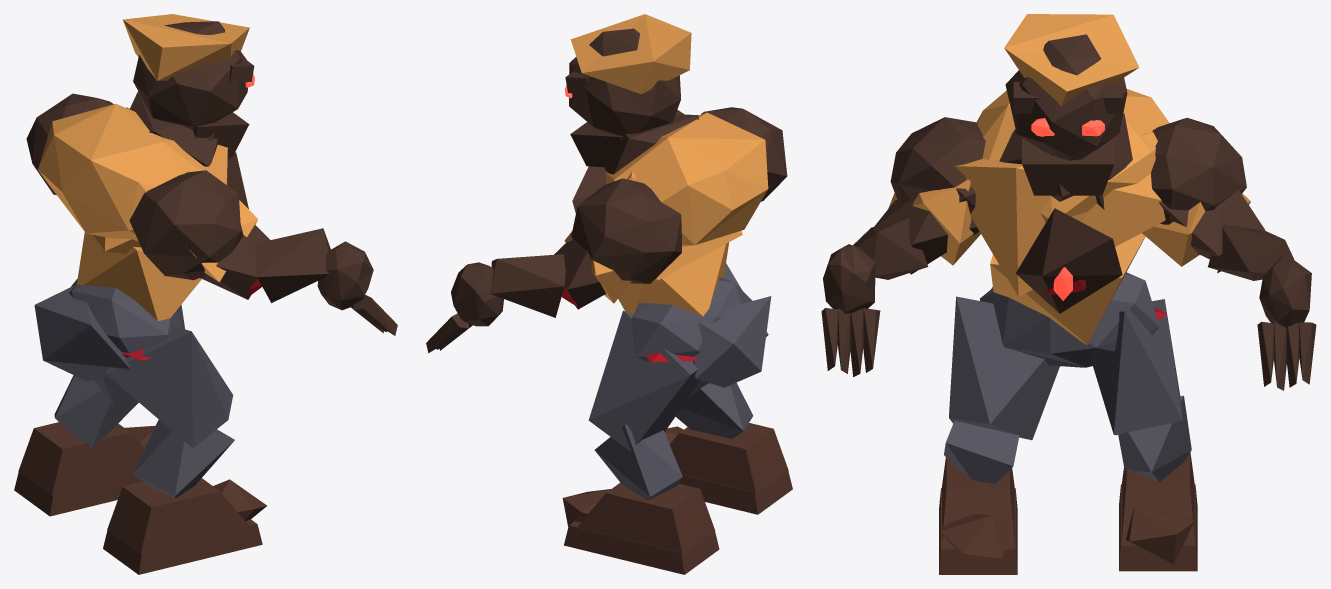
3 renders of one model, left to right at view 1: azimuth 30°, elevation 25°; view 2: azimuth 150°, elevation 25°; view 3: azimuth 270°, elevation 25°, orthographic. The views are drawn at different scales.
Visible parts, largest first — view 1: torso__alpha, head__alpha, armR__alpha, footR__alpha, hip__alpha, footL__alpha, legR__alpha, shinR__alpha, foreArmR__alpha, handR__alpha, shinL__alpha, armL__alpha (+1 smaller); view 2: torso__alpha, head__alpha, armL__alpha, footL__alpha, hip__alpha, footR__alpha, legL__alpha, shinL__alpha, foreArmL__alpha, handL__alpha, shinR__alpha, armR__alpha; view 3: torso__alpha, head__alpha, armL__alpha, armR__alpha, legR__alpha, footL__alpha, footR__alpha, legL__alpha, hip__alpha, handR__alpha, handL__alpha, shinR__alpha (+3 smaller).
Part boxes in pixels (x1,y1,x2,y2): torso__alpha: (38, 91, 248, 320); head__alpha: (123, 14, 254, 157); armR__alpha: (129, 170, 270, 299); footR__alpha: (103, 478, 266, 574); hip__alpha: (34, 279, 185, 381); footL__alpha: (14, 422, 155, 516); legR__alpha: (106, 326, 233, 448); shinR__alpha: (133, 419, 234, 498); foreArmR__alpha: (255, 228, 330, 302); handR__alpha: (317, 241, 397, 335); shinL__alpha: (54, 375, 138, 451); armL__alpha: (26, 93, 113, 194); torso__alpha: (572, 112, 768, 316); head__alpha: (565, 14, 691, 170); armL__alpha: (554, 178, 681, 309); footL__alpha: (562, 482, 719, 574); hip__alpha: (632, 277, 771, 387); footR__alpha: (664, 423, 792, 514); legL__alpha: (588, 310, 700, 451); shinL__alpha: (594, 424, 682, 500); foreArmL__alpha: (490, 254, 565, 317); handL__alpha: (426, 262, 503, 353); shinR__alpha: (675, 382, 753, 438); armR__alpha: (701, 107, 787, 201); torso__alpha: (955, 89, 1169, 344); head__alpha: (1004, 14, 1139, 209); armL__alpha: (1142, 117, 1265, 266); armR__alpha: (874, 117, 985, 274); legR__alpha: (949, 296, 1059, 440); footL__alpha: (1119, 452, 1197, 571); footR__alpha: (939, 457, 1017, 574); legL__alpha: (1093, 299, 1184, 435); hip__alpha: (980, 272, 1159, 367); handR__alpha: (821, 244, 880, 376); handL__alpha: (1257, 253, 1316, 390); shinR__alpha: (944, 420, 1019, 484).
Size of the model in its own units: 1.22 by 2.3 by 1.95.
